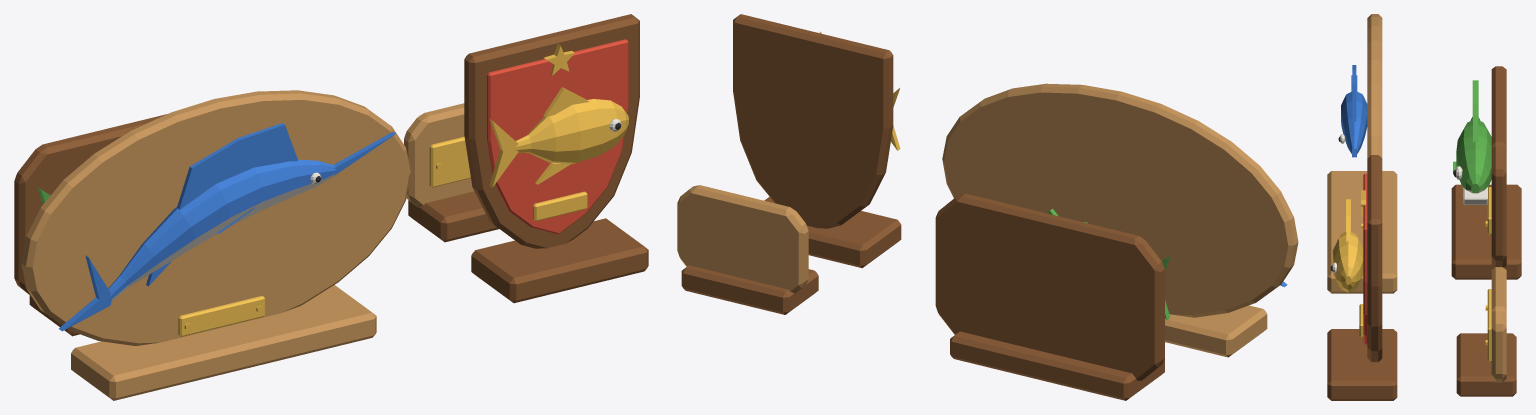
Rendered from fish-trophy-mounts.glb.
3 renders of one model, left to right at view 1: azimuth 30°, elevation 25°; view 2: azimuth 150°, elevation 25°; view 3: azimuth 270°, elevation 25°, orthographic. The views are drawn at different scales.
Parts seen in each view (by area): view 1: Marlin_Plaque, Marlin_Stand, Golden_Velvet, Golden_Shield, Marlin_Body, Golden_Stand, Bass_Plaque, Golden_Fish, Marlin_Sail, Blank_Plaque, Blank_Stand, Marlin_NamePlate (+5 smaller); view 2: Marlin_Plaque, Bass_Plaque, Golden_Shield, Blank_Plaque, Bass_Stand, Golden_Stand, Marlin_Stand, Blank_Stand; view 3: Marlin_Stand, Bass_Stand, Golden_Stand, Golden_Shield, Bass_Plaque, Blank_Stand, Marlin_Plaque, Bass_Body, Blank_Plaque, Golden_Fish, Marlin_Body, Golden_Velvet (+6 smaller).
Boxes of the visible parts, left/top/right/bottom form: Marlin_Plaque: left=21, top=90, right=410, bottom=345; Marlin_Stand: left=71, top=285, right=376, bottom=400; Golden_Velvet: left=487, top=39, right=628, bottom=233; Golden_Shield: left=464, top=14, right=639, bottom=248; Marlin_Body: left=107, top=159, right=337, bottom=301; Golden_Stand: left=471, top=218, right=648, bottom=303; Bass_Plaque: left=14, top=114, right=166, bottom=296; Golden_Fish: left=516, top=99, right=628, bottom=164; Marlin_Sail: left=176, top=123, right=298, bottom=210; Blank_Plaque: left=404, top=103, right=473, bottom=207; Blank_Stand: left=408, top=191, right=498, bottom=242; Marlin_NamePlate: left=178, top=295, right=265, bottom=336; Marlin_Plaque: left=942, top=83, right=1298, bottom=317; Bass_Plaque: left=935, top=193, right=1164, bottom=381; Golden_Shield: left=733, top=14, right=893, bottom=228; Blank_Plaque: left=677, top=185, right=808, bottom=293; Bass_Stand: left=950, top=331, right=1164, bottom=400; Golden_Stand: left=764, top=197, right=901, bottom=268; Marlin_Stand: left=1165, top=305, right=1267, bottom=357; Blank_Stand: left=681, top=265, right=818, bottom=314; Marlin_Stand: left=1327, top=171, right=1397, bottom=293; Bass_Stand: left=1451, top=184, right=1521, bottom=279; Golden_Stand: left=1327, top=329, right=1397, bottom=400; Golden_Shield: left=1367, top=155, right=1382, bottom=362; Bass_Plaque: left=1491, top=66, right=1506, bottom=267; Blank_Stand: left=1456, top=333, right=1516, bottom=396; Marlin_Plaque: left=1367, top=14, right=1382, bottom=158; Bass_Body: left=1456, top=117, right=1491, bottom=193; Blank_Plaque: left=1491, top=267, right=1506, bottom=382; Golden_Fish: left=1332, top=231, right=1363, bottom=292; Marlin_Body: left=1341, top=91, right=1367, bottom=153; Golden_Velvet: left=1363, top=173, right=1367, bottom=344.
Size of the model in its own units: 11.48 by 4.45 by 3.88.
